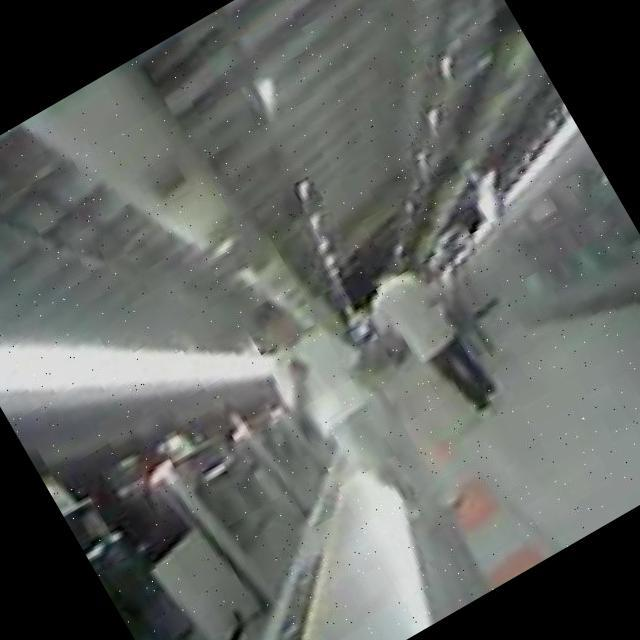person: (236, 270, 453, 551), (344, 237, 510, 439)
